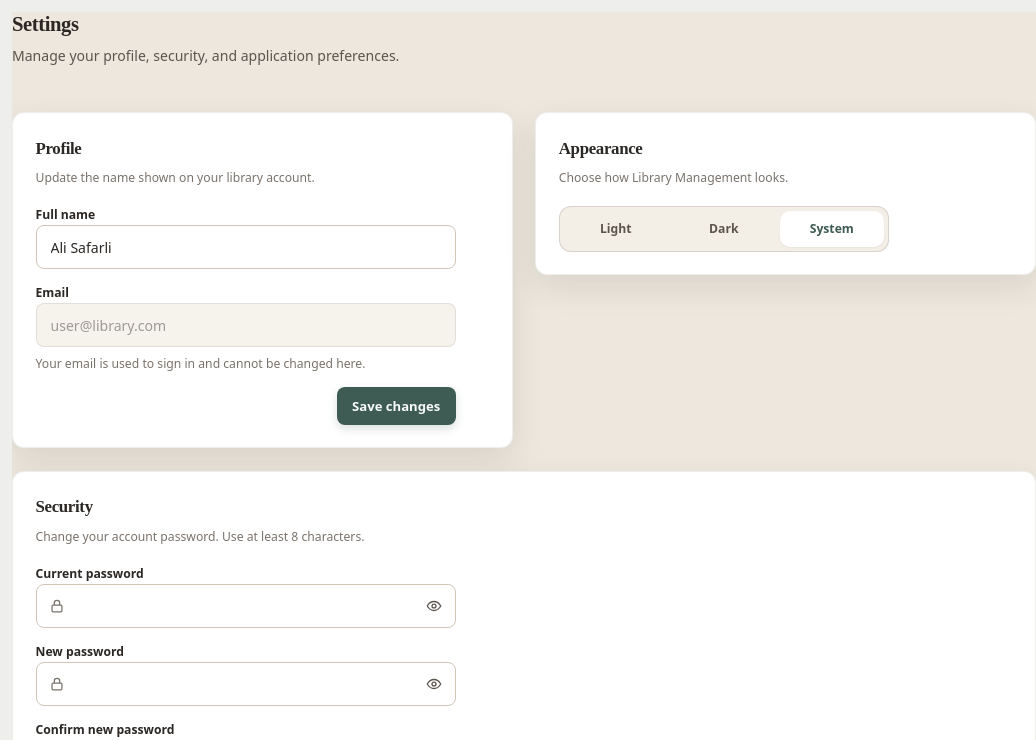
Test: SettingsPage › validates an empty name before saving
This screenshot has width=1036, height=740.
Step 1. Clear the field labelled "Full name" → (246, 247), box [36,225,456,269]
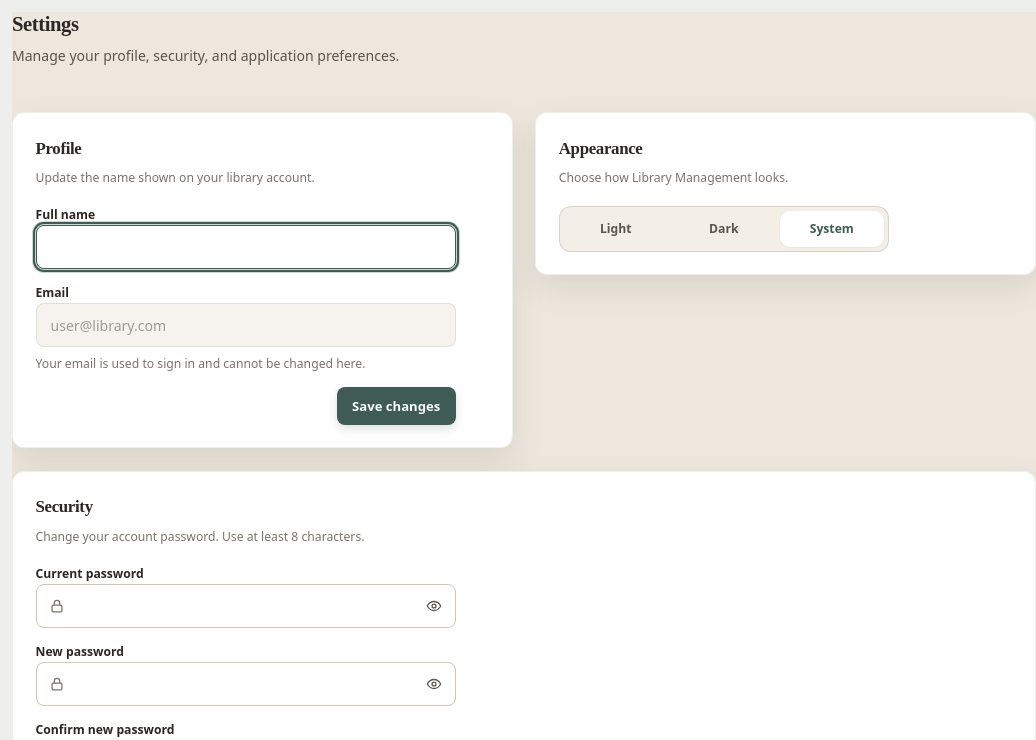
Step 2. Click the button "Save changes" → (396, 406), box [337,387,456,425]
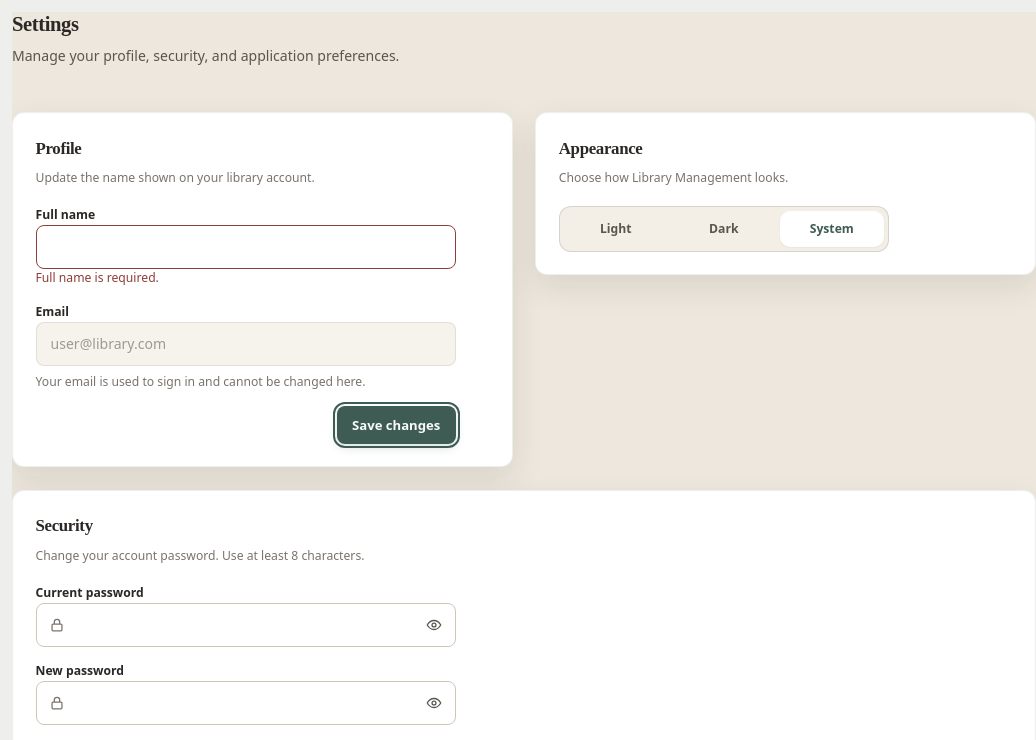
Now the text "Full name is required." is shown, box [36,269,159,286]
